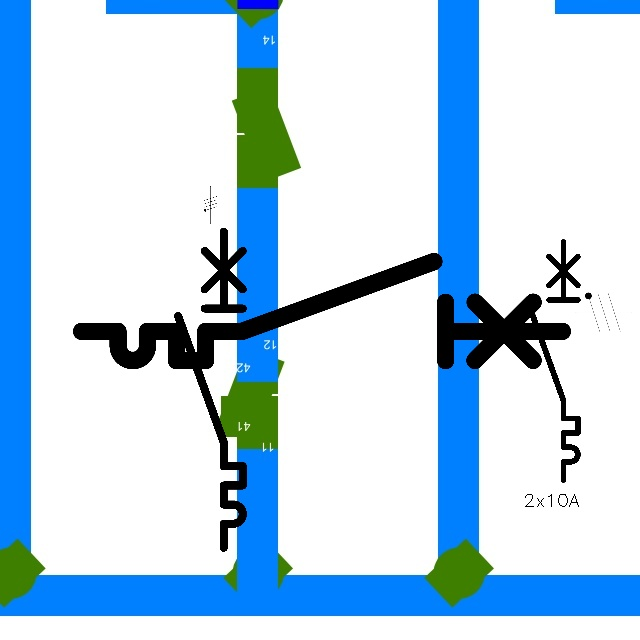interruptor_termomagnetico: (69, 249, 574, 373), (170, 223, 251, 555), (523, 236, 584, 486)
